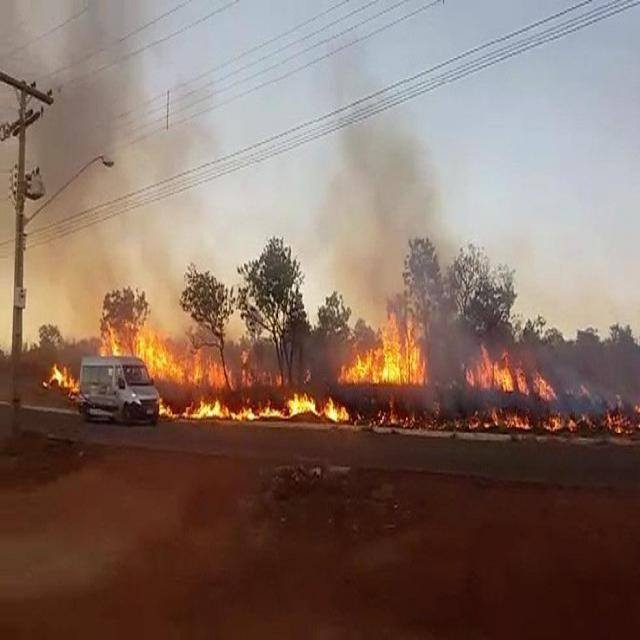Fire: (158, 398, 635, 430), (102, 322, 270, 380), (339, 314, 432, 386), (466, 331, 554, 392), (46, 366, 77, 398)
